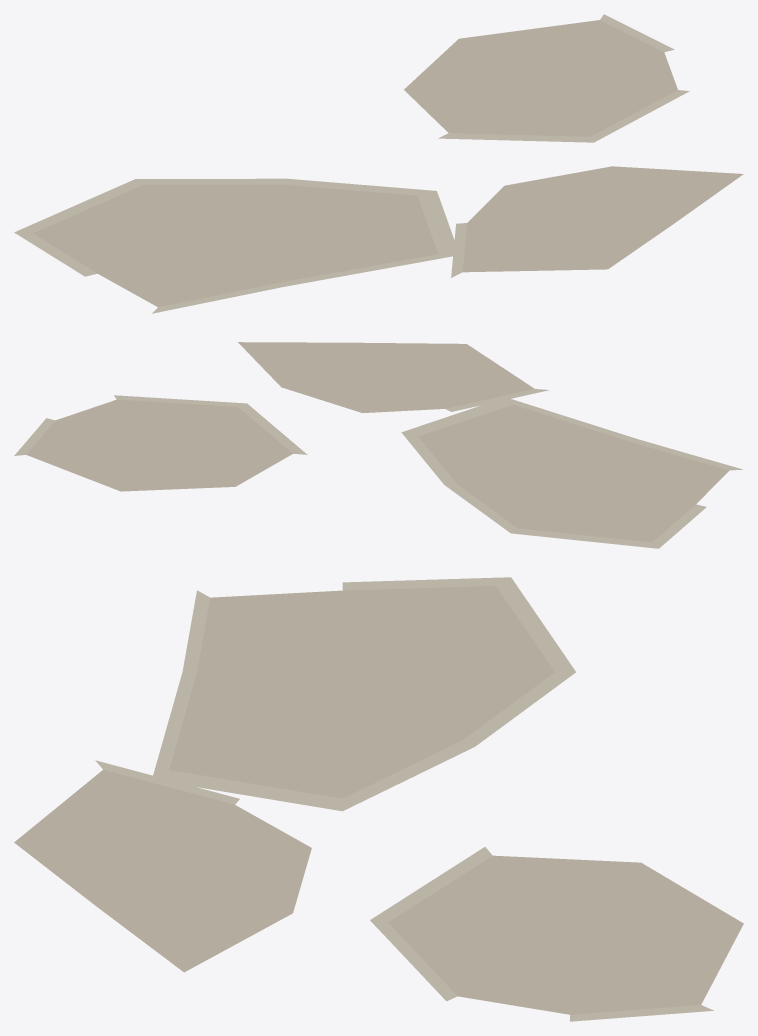
File: SM_MS3_PortableFeed_2.fbx
3 renders of one model, top to bottom at view 1: azimuth 30°, elevation 25°; view 2: azimuth 150°, elevation 25°; view 3: azimuth 270°, elevation 25°, orthographic. The views are drawn at different scales.
Parts seen in each view (by area): view 1: SM_MS3_PortableFeed_2; view 2: SM_MS3_PortableFeed_2; view 3: SM_MS3_PortableFeed_2.
Boxes of the visible parts, x1,y1,x2,y2 form: SM_MS3_PortableFeed_2: (14, 14, 743, 313); SM_MS3_PortableFeed_2: (14, 342, 742, 548); SM_MS3_PortableFeed_2: (14, 577, 743, 1021).
Size of the model in its own units: 1.53 by 1.06 by 0.
